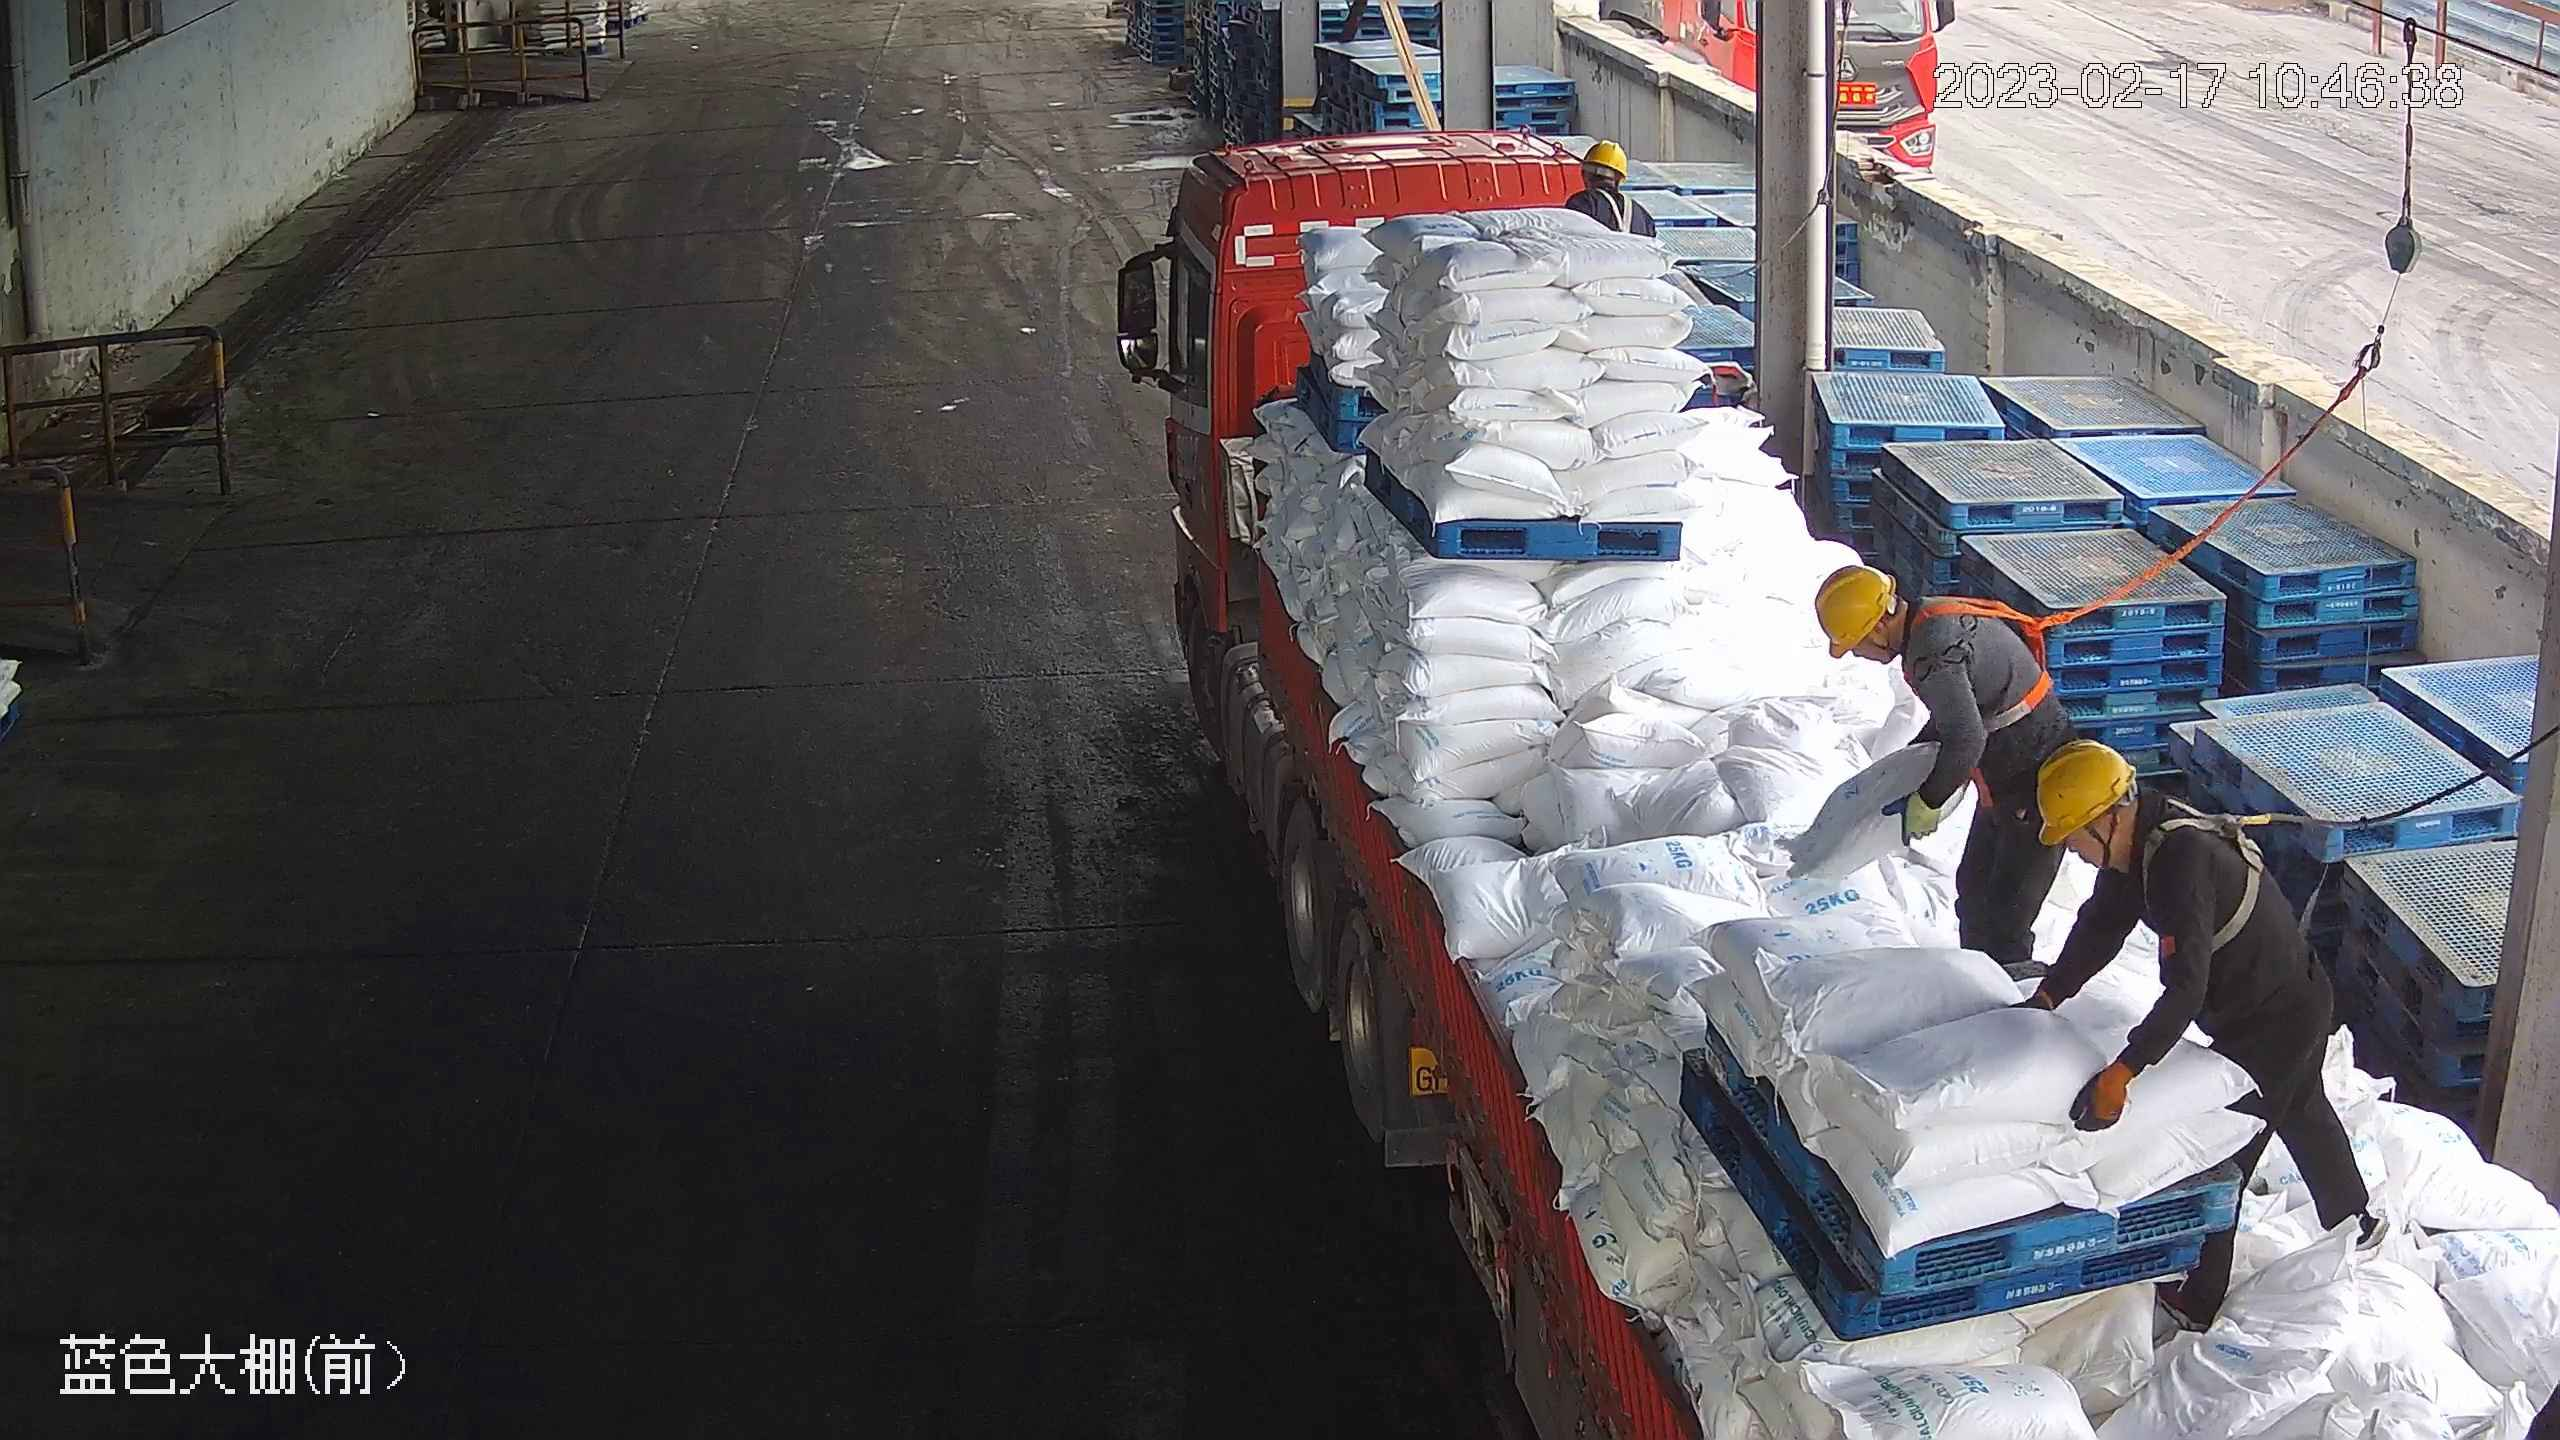belt: (2140, 786, 2286, 962), (1909, 590, 2064, 731), (1586, 190, 1642, 237)
head: (2038, 739, 2239, 939), (1815, 559, 1976, 703), (1566, 136, 1659, 239)
helmet: (2038, 739, 2137, 849), (1813, 566, 1895, 661), (1583, 140, 1630, 179)
people: (2016, 740, 2389, 1251), (1814, 559, 2074, 979)
truck: (1115, 120, 2560, 1440)
